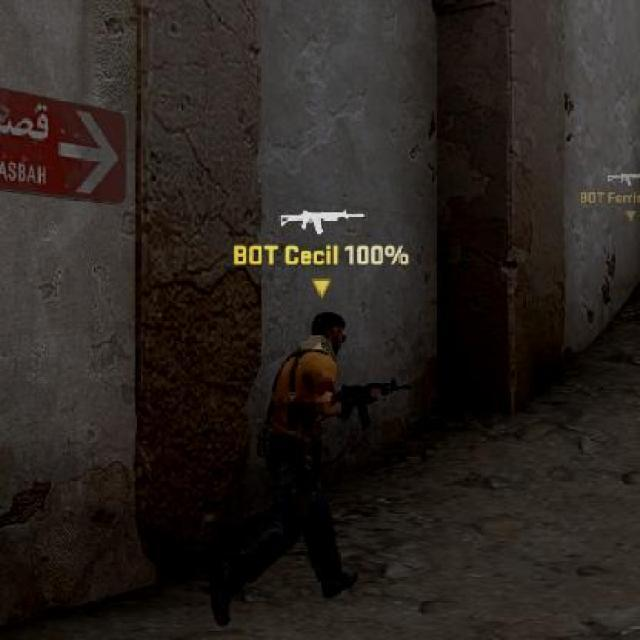T: (224, 316, 382, 608)
T_HEAD: (308, 306, 354, 356)
